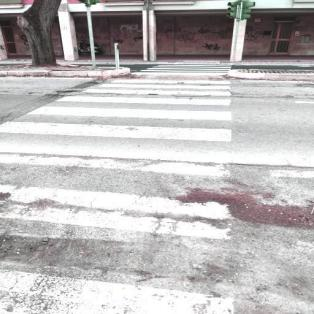Paso de Cebra: (0, 144, 243, 244), (23, 94, 236, 124)
